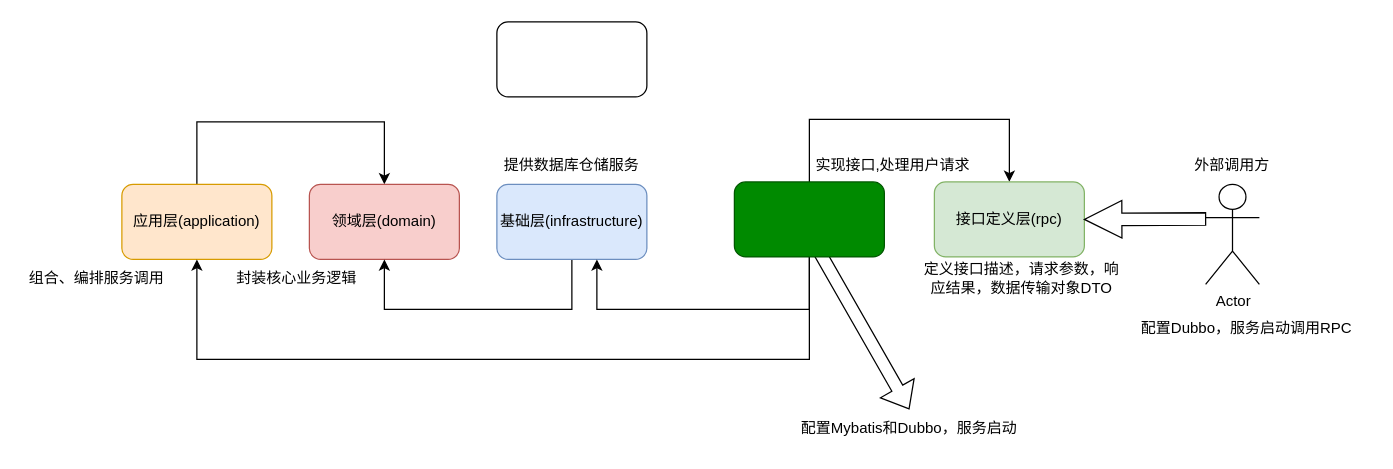
This 1393x469 diagram has some shape labels left out. The shapes that lost their labels are listed below. From the top down, each one's centre as x and y in pixels, then its label:
At (571,59): "通用包(common)".
At (808,219): "接口层(interfaces) war 包".
